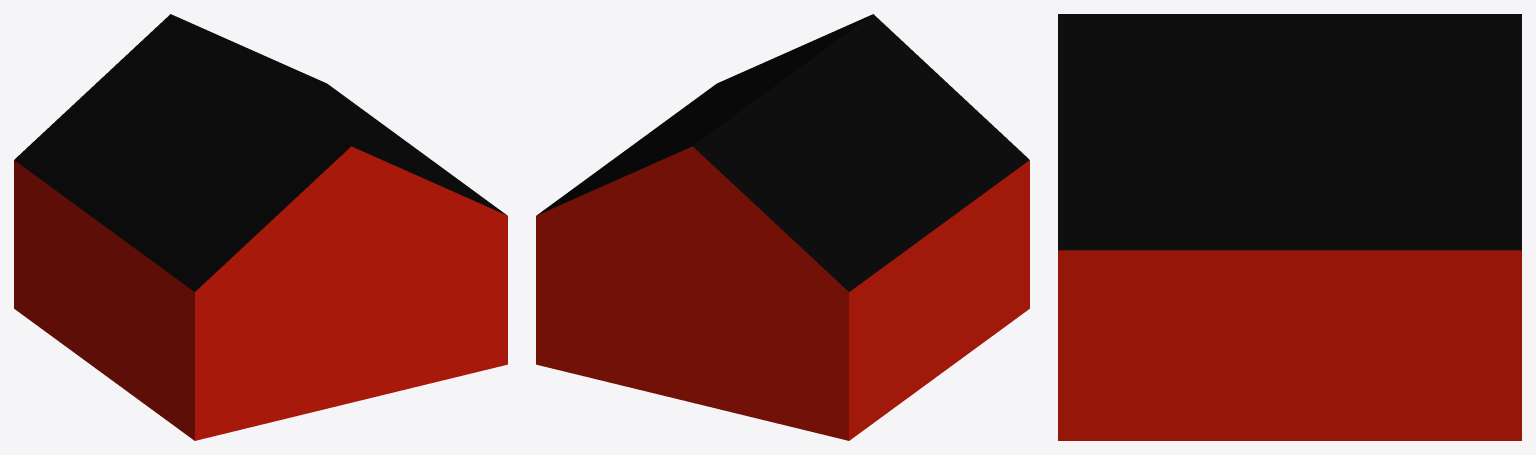
Rendered from BarnDummy.fbx.
3 views of the same model, side by side, from view 1: azimuth 30°, elevation 25°; view 2: azimuth 150°, elevation 25°; view 3: azimuth 270°, elevation 25° (orthographic). The views are drawn at different scales.
Visible parts, largest first — view 1: Cube; view 2: Cube; view 3: Cube.
Boxes of the visible parts, x1,y1,x2,y2 form: Cube: (14, 14, 507, 440); Cube: (536, 14, 1029, 440); Cube: (1058, 14, 1521, 440).
Size of the model in its own units: 706 by 553 by 706.
